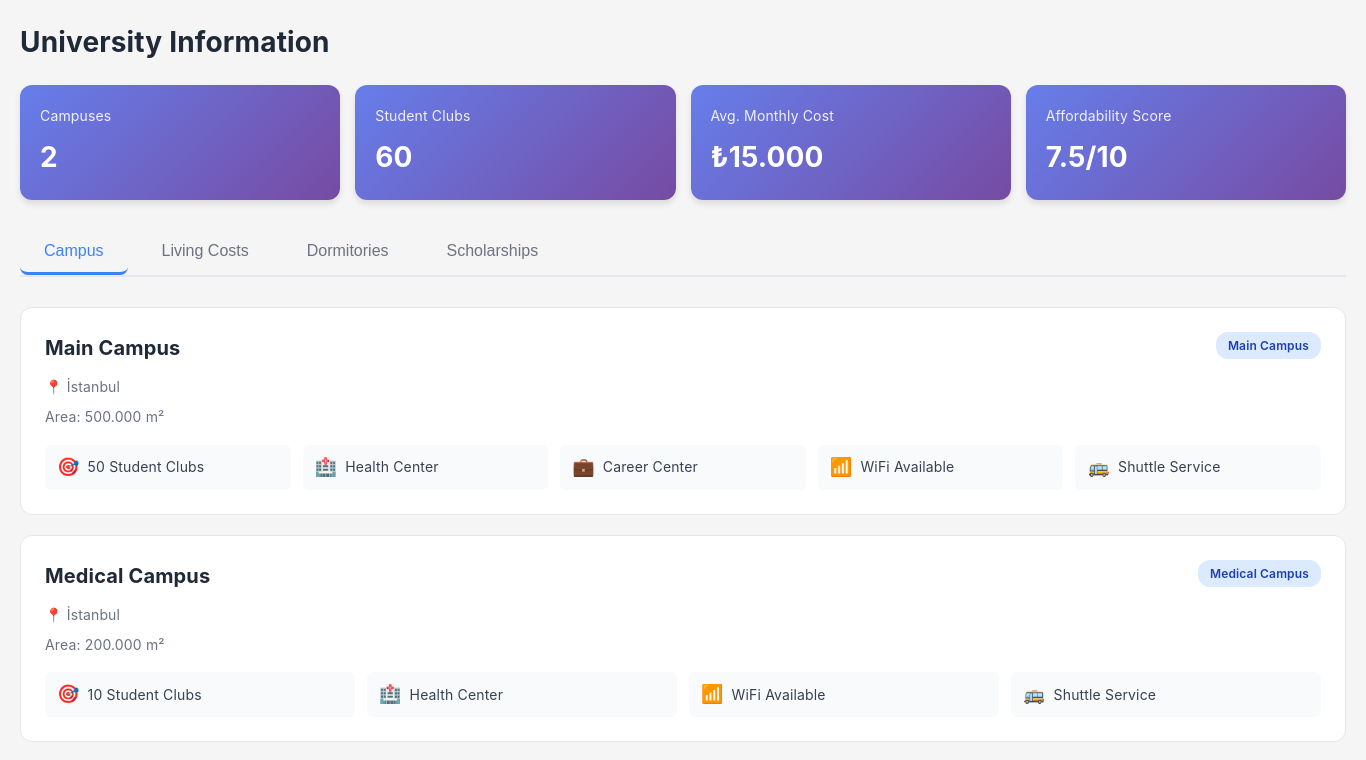
Test: UniversityInfo - Dormitory Tab › switches to dormitory tab
Click the button "Dormitories". click: (348, 252)
box: [283,230,412,275]
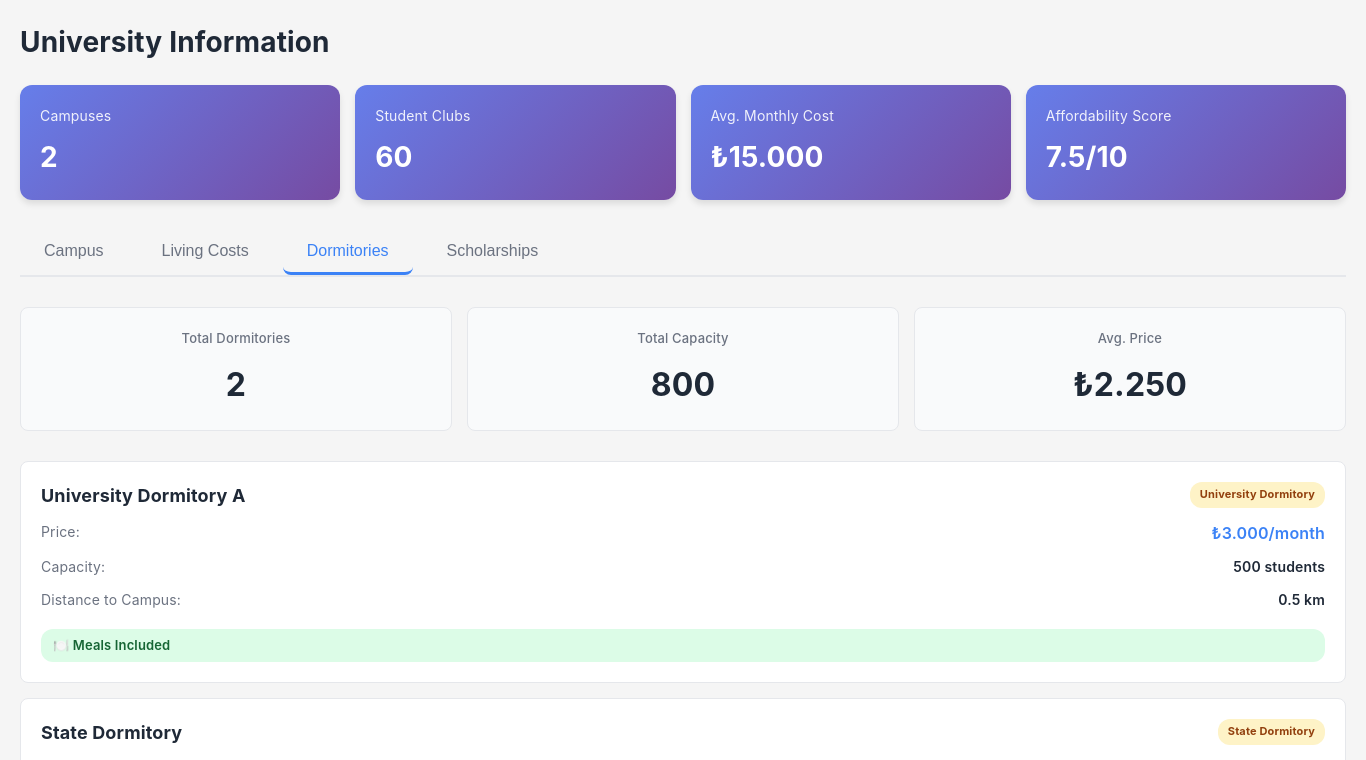
Expected: the heading "University Dormitory A" is shown, [41,482,246,511]
